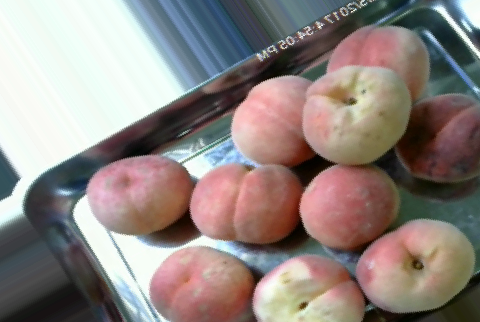Peach: (356, 219, 475, 315), (302, 65, 410, 165), (298, 163, 401, 249), (191, 163, 299, 245), (86, 154, 193, 234), (148, 245, 260, 321), (329, 26, 430, 109), (395, 89, 480, 186), (230, 73, 315, 169), (248, 258, 362, 321)
